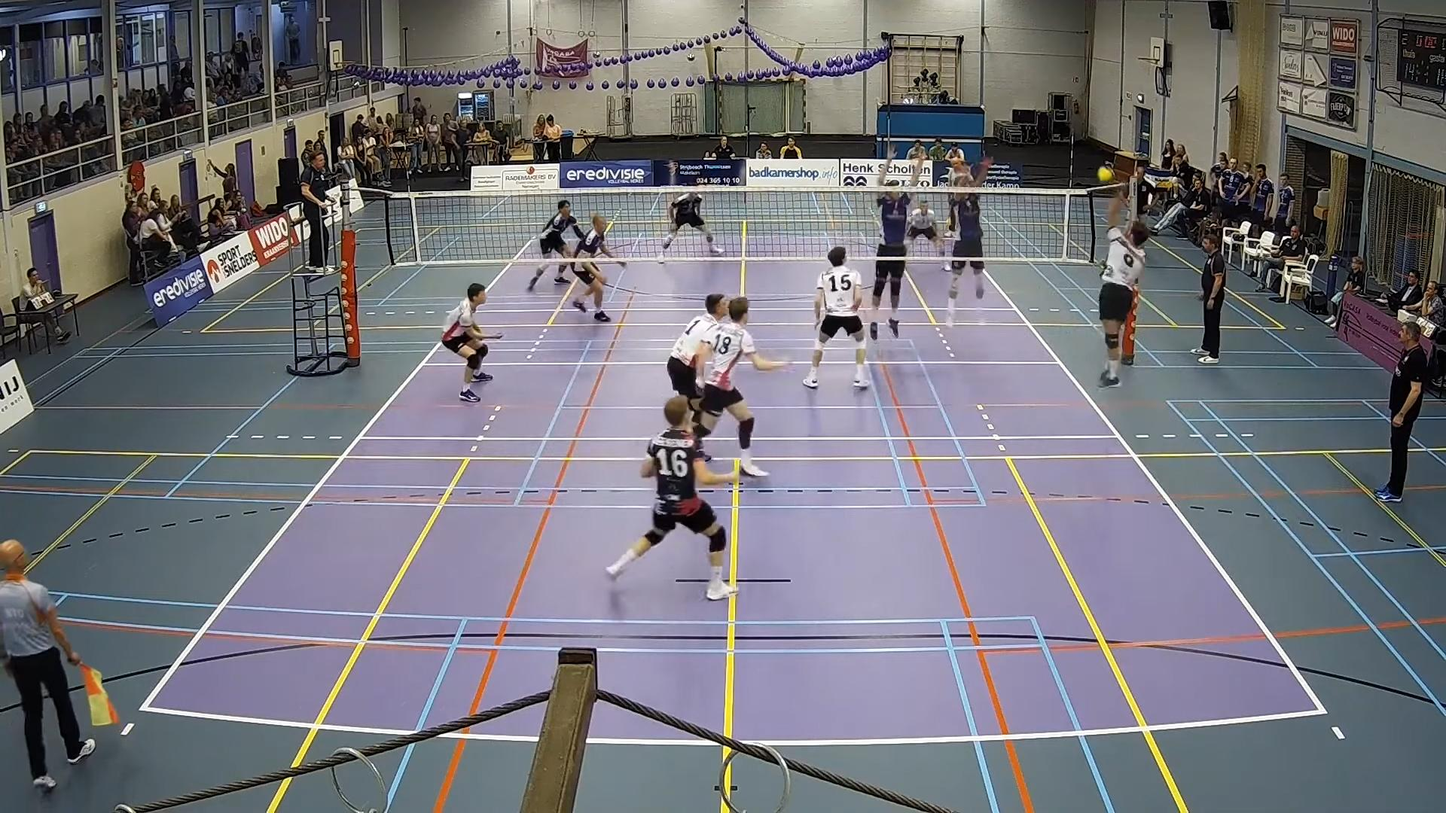attacco: (1091, 192, 1146, 387)
muro: (940, 146, 997, 337), (871, 147, 925, 339)
